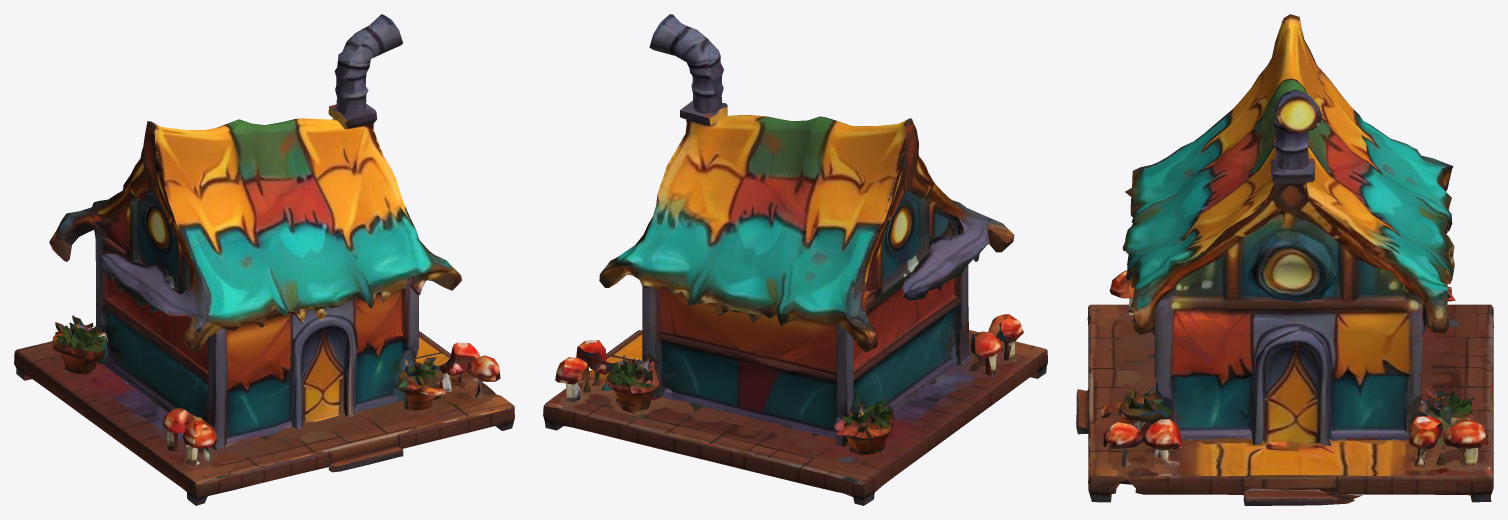
File: shelter.glb
3 views of the same model, side by side, from view 1: azimuth 30°, elevation 25°; view 2: azimuth 150°, elevation 25°; view 3: azimuth 270°, elevation 25° (orthographic). The views are drawn at different scales.
Visible parts, largest first — view 1: shelter; view 2: shelter; view 3: shelter.
Boxes of the visible parts, box(x1,y1,x2,y2) form: shelter: box(14, 14, 514, 505); shelter: box(543, 14, 1047, 505); shelter: box(1076, 14, 1493, 505).
Bounding box in the file's own units: 1 × 0.9995 × 0.9661.
1 material, 1 textured.
